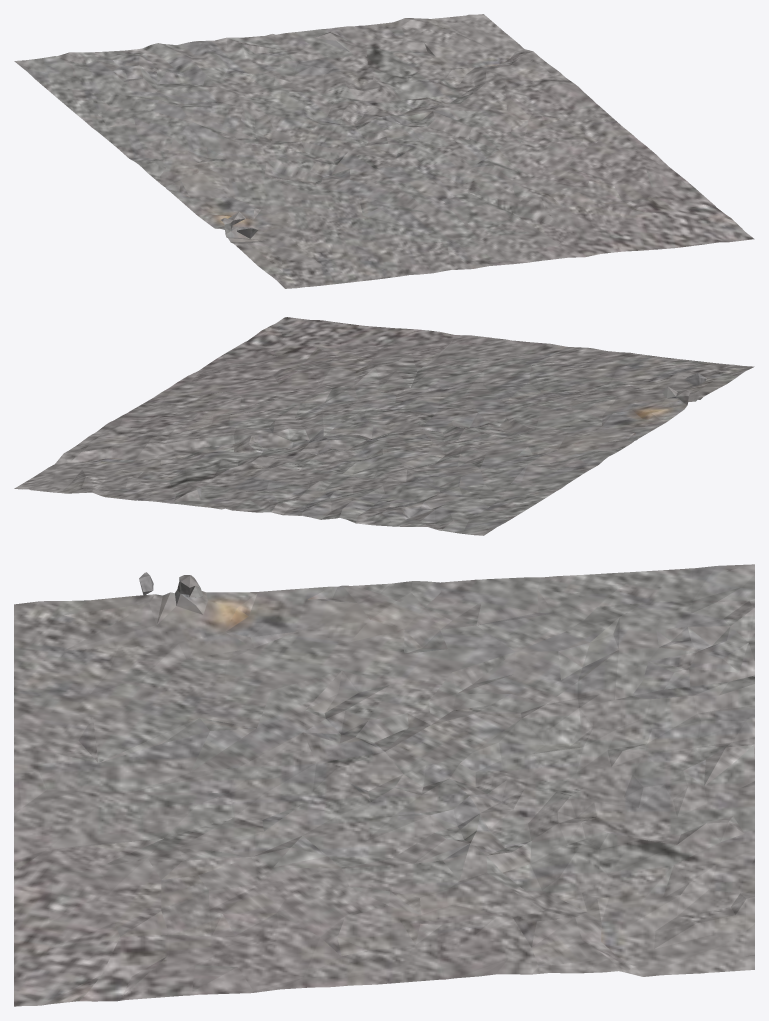
3 views of the same model, one above another, from view 1: azimuth 30°, elevation 25°; view 2: azimuth 150°, elevation 25°; view 3: azimuth 270°, elevation 25° (orthographic). The views are drawn at different scales.
Size of the model in its own units: 0.8373 by 0.161 by 0.8374.
Materials: 3 (3 with a texture image).
